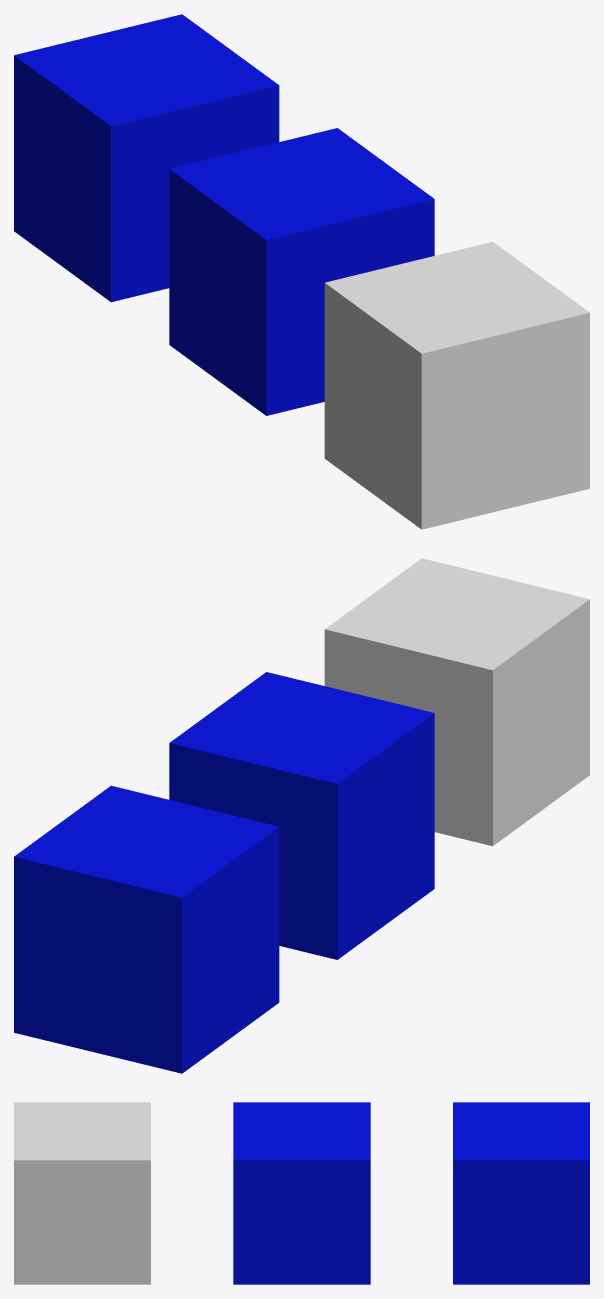
Rendered from testing_animation2.glb.
The picture shows the model from 3 angles, top to bottom: view 1: azimuth 30°, elevation 25°; view 2: azimuth 150°, elevation 25°; view 3: azimuth 270°, elevation 25°; orthographic projection. The views are drawn at different scales.
Visible parts, largest first — view 1: object, Cube; view 2: object, Cube; view 3: object, Cube.
Boxes of the visible parts, <box> form: object: <box>14,14,434,415</box>; Cube: <box>324,241,589,529</box>; object: <box>14,672,434,1073</box>; Cube: <box>324,558,589,846</box>; object: <box>233,1102,589,1284</box>; Cube: <box>14,1102,150,1284</box>.
Bounding box in the file's own units: 2 × 2 × 8.4.
